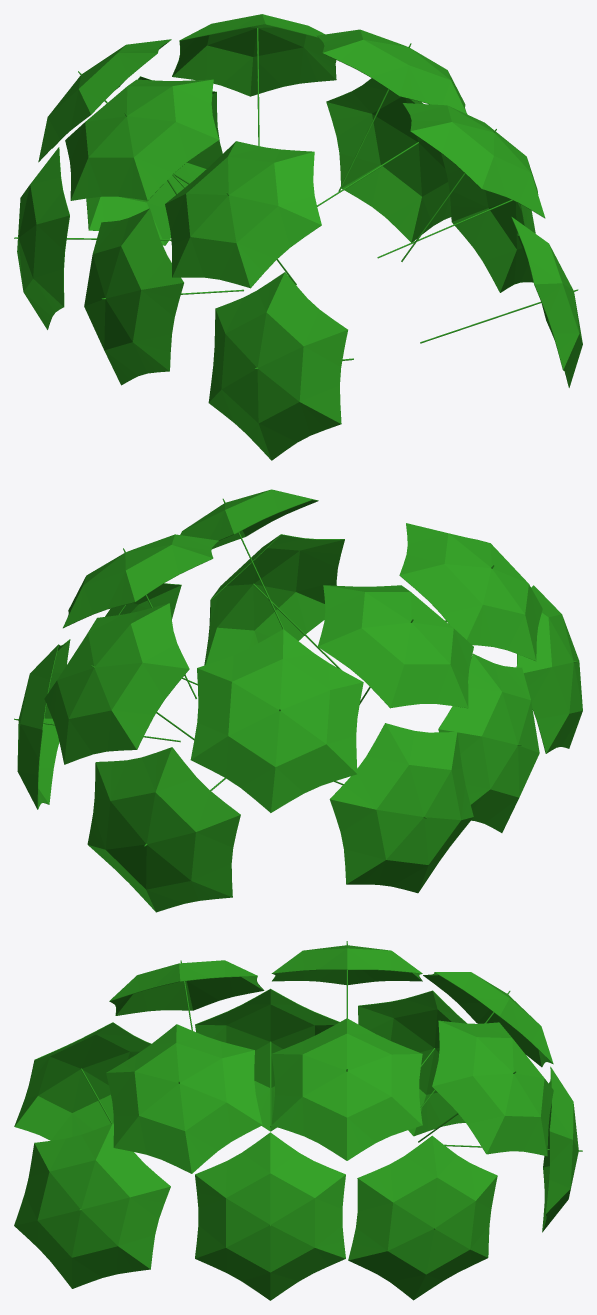
Rendered from Mad_race_Umbrella.fbx.
3 views of the same model, one above another, from view 1: azimuth 30°, elevation 25°; view 2: azimuth 150°, elevation 25°; view 3: azimuth 270°, elevation 25° (orthographic). The views are drawn at different scales.
Visible parts, largest first — view 1: Cylinder065, Cylinder071, Cylinder069, Cylinder072, Cylinder067, Cylinder074, Cylinder070, Cylinder073, Cylinder066, Cylinder068, Cylinder064, Cylinder075 (+1 smaller); view 2: Cylinder075, Cylinder076, Cylinder073, Cylinder074, Cylinder069, Cylinder071, Cylinder064, Cylinder067, Cylinder065, Cylinder068, Cylinder072, Cylinder070 (+1 smaller); view 3: Cylinder066, Cylinder064, Cylinder072, Cylinder070, Cylinder068, Cylinder074, Cylinder065, Cylinder067, Cylinder073, Cylinder071, Cylinder069, Cylinder075 (+1 smaller).
Boxes of the visible parts, x1,y1,x2,y2 form: Cylinder065: (208, 272, 353, 460); Cylinder071: (165, 141, 321, 288); Cylinder069: (65, 79, 218, 200); Cylinder072: (317, 78, 451, 242); Cylinder067: (84, 208, 243, 385); Cylinder074: (172, 14, 336, 145); Cylinder070: (401, 103, 545, 261); Cylinder073: (14, 147, 171, 329); Cylinder066: (377, 153, 535, 292); Cylinder068: (317, 29, 467, 191); Cylinder064: (420, 217, 582, 387); Cylinder075: (38, 39, 185, 187); Cylinder075: (190, 629, 363, 812); Cylinder076: (87, 747, 240, 912); Cylinder073: (329, 723, 473, 893); Cylinder074: (44, 603, 194, 764); Cylinder069: (317, 585, 473, 708); Cylinder071: (399, 523, 542, 660); Cylinder064: (204, 534, 344, 669); Cylinder067: (438, 653, 539, 832); Cylinder065: (516, 585, 582, 753); Cylinder068: (63, 534, 218, 698); Cylinder072: (14, 639, 180, 809); Cylinder070: (180, 489, 318, 629); Cylinder066: (195, 1132, 345, 1300); Cylinder064: (14, 1123, 170, 1288); Cylinder072: (348, 1135, 497, 1300); Cylinder070: (106, 1024, 262, 1173); Cylinder068: (271, 1018, 422, 1160); Cylinder074: (418, 1020, 553, 1156); Cylinder065: (14, 1022, 151, 1140); Cylinder067: (195, 988, 339, 1131); Cylinder073: (358, 990, 467, 1136); Cylinder071: (109, 960, 264, 1030); Cylinder069: (271, 941, 422, 1018); Cylinder075: (420, 972, 553, 1109).
Size of the model in its own units: 354 by 210 by 452.
